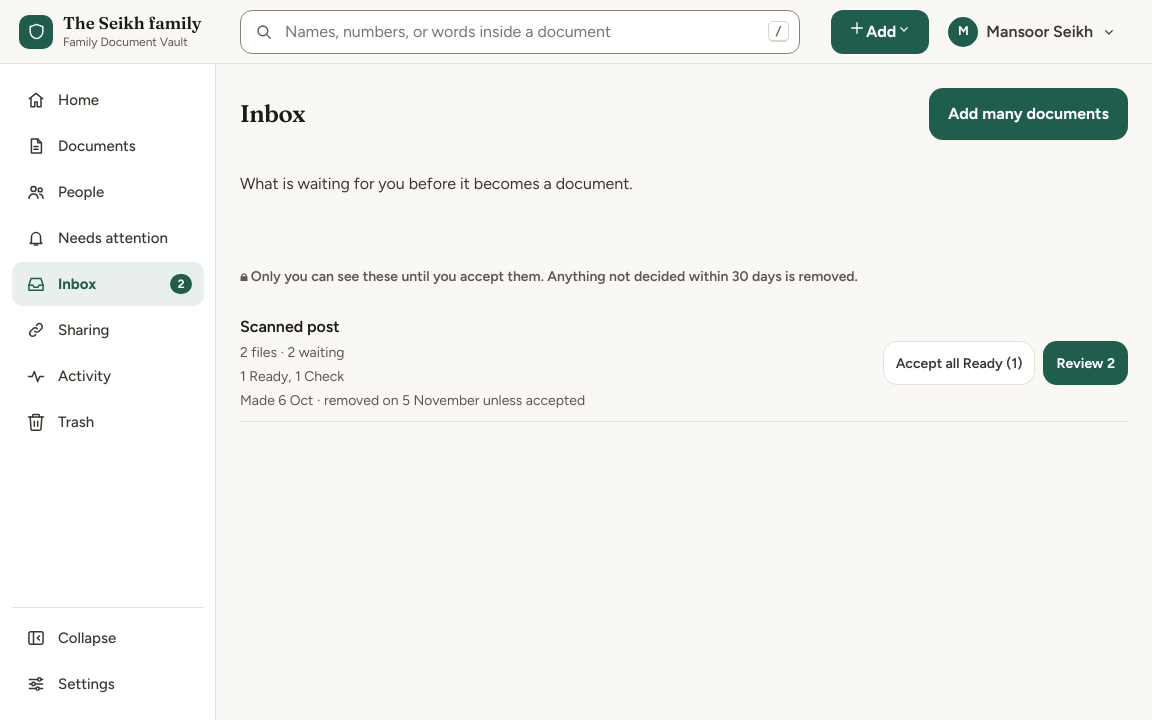
Test: duplicates as versions (S1) › from the Inbox, Accept all Ready counts and sends only Ready files: a near match is Check (M2)
Click the button with aria-label "Accept all Ready in Scanned post (1)": point(959, 363) x1=883 y1=341 x2=1036 y2=385
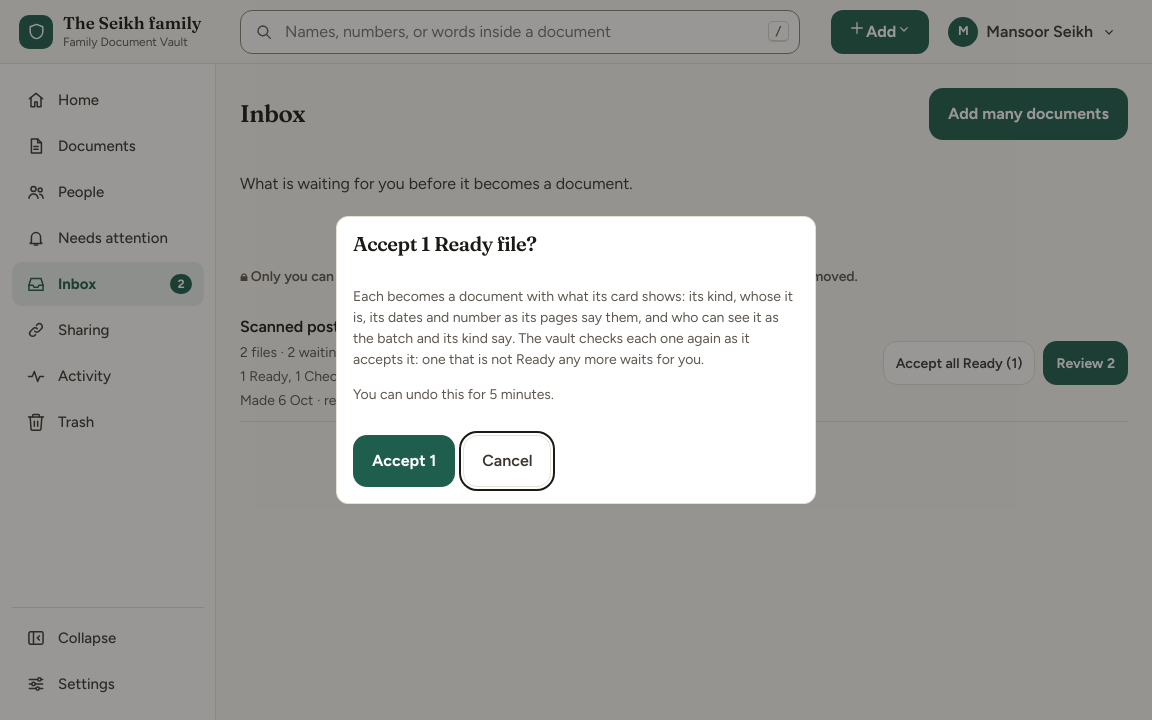
Click the button "Accept 1": point(404, 461) x1=353 y1=435 x2=455 y2=487
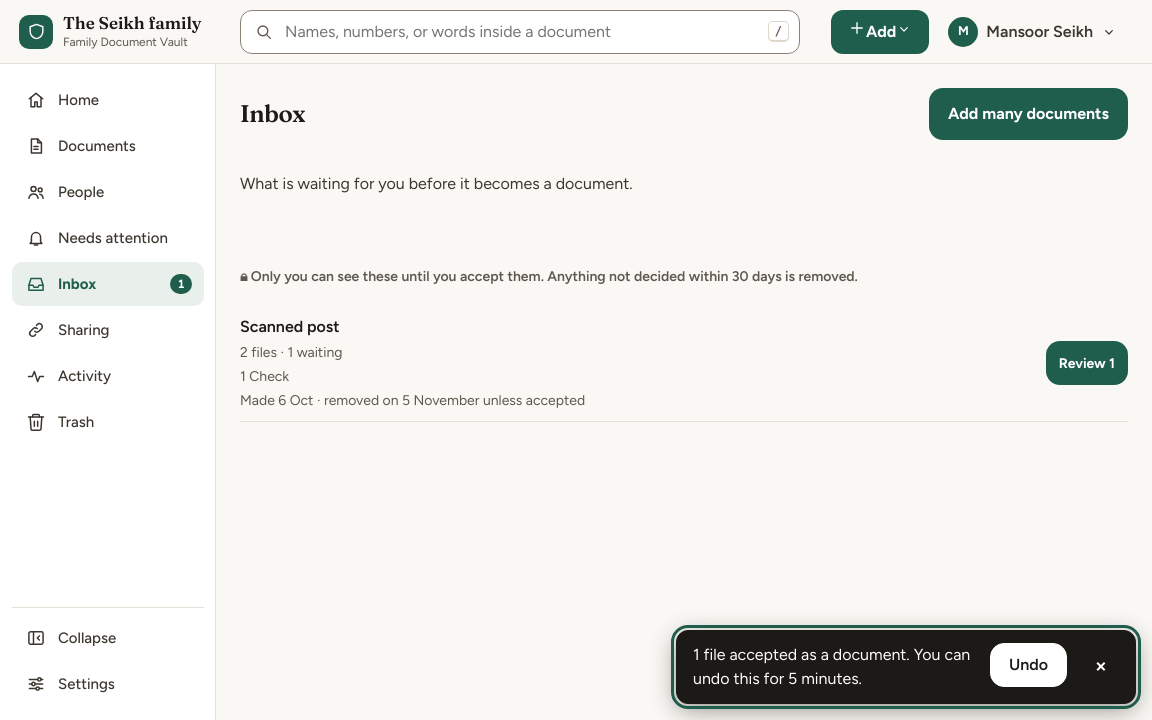
Expected: the element named "What was just done" is shown, x1=676 y1=630 x2=1136 y2=704
